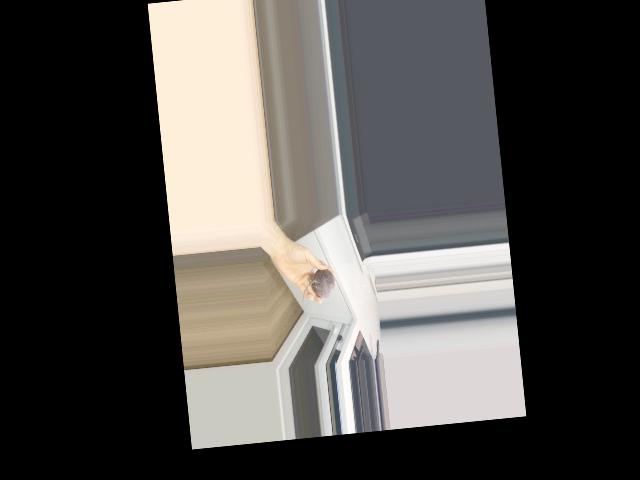beet: (299, 268, 336, 303)
